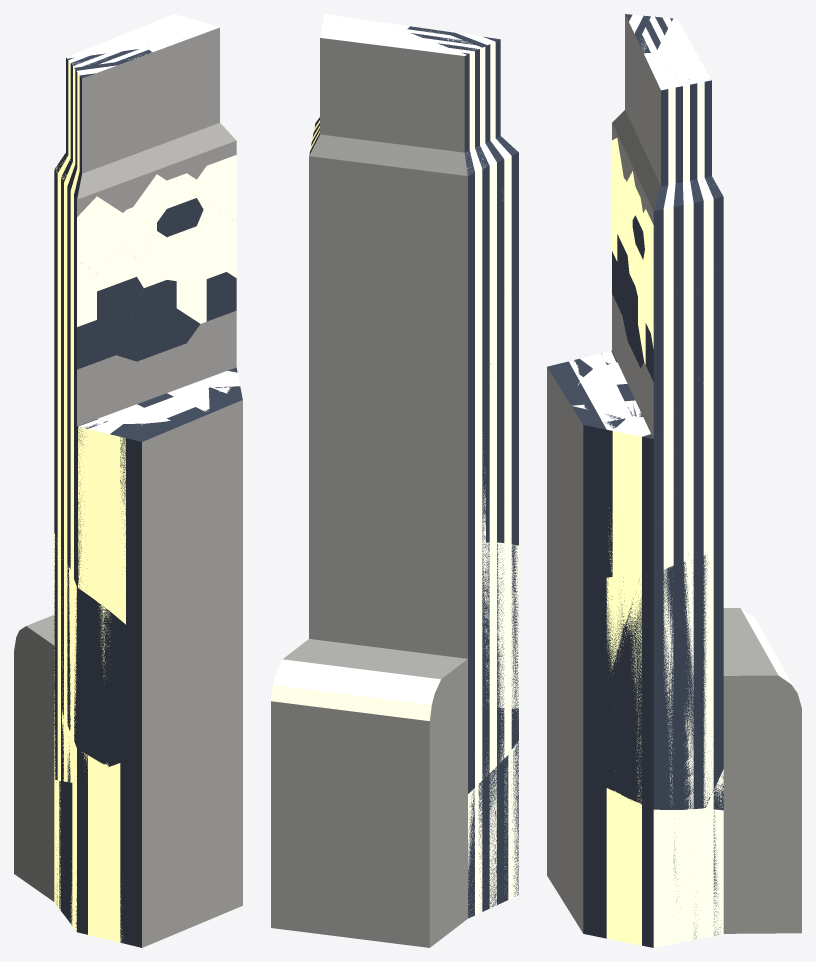
Rendered from BIGBuilding.fbx.
3 views of the same model, side by side, from view 1: azimuth 30°, elevation 25°; view 2: azimuth 150°, elevation 25°; view 3: azimuth 270°, elevation 25° (orthographic).
Visible parts, largest first — view 1: Skyscraper, Skyscraper_cell.093, Skyscraper_cell.009, Skyscraper_cell.095, Skyscraper_cell.086, Skyscraper_cell.023, Skyscraper_cell.090, Skyscraper_cell.014, Skyscraper_cell.026, Skyscraper_cell.039, Skyscraper_cell.065, Skyscraper_cell.005 (+46 smaller); view 2: Skyscraper, Skyscraper_cell.051, Skyscraper_cell.065, Skyscraper_cell.053, Skyscraper_cell.004, Skyscraper_cell.009, Skyscraper_cell.096, Skyscraper_cell.042, Skyscraper_cell.077, Skyscraper_cell.078, Skyscraper_cell.019, Skyscraper_cell.028 (+2 smaller); view 3: Skyscraper, Skyscraper_cell.093, Skyscraper_cell.086, Skyscraper_cell.006, Skyscraper_cell.051, Skyscraper_cell.057, Skyscraper_cell.053, Skyscraper_cell.095, Skyscraper_cell.067, Skyscraper_cell.038, Skyscraper_cell.031, Skyscraper_cell.084 (+14 smaller).
Boxes of the visible parts, x1,y1,x2,y2 form: Skyscraper: [14, 48, 242, 947]; Skyscraper_cell.093: [155, 555, 242, 760]; Skyscraper_cell.009: [18, 533, 157, 766]; Skyscraper_cell.095: [136, 422, 190, 638]; Skyscraper_cell.086: [208, 386, 242, 571]; Skyscraper_cell.023: [137, 361, 209, 588]; Skyscraper_cell.090: [109, 423, 144, 624]; Skyscraper_cell.014: [93, 430, 109, 610]; Skyscraper_cell.026: [120, 88, 156, 209]; Skyscraper_cell.039: [150, 84, 186, 180]; Skyscraper_cell.065: [14, 644, 99, 782]; Skyscraper_cell.005: [78, 419, 105, 598]; Skyscraper: [271, 26, 518, 947]; Skyscraper_cell.051: [271, 814, 379, 941]; Skyscraper_cell.065: [350, 699, 518, 848]; Skyscraper_cell.053: [271, 693, 350, 824]; Skyscraper_cell.004: [380, 784, 478, 947]; Skyscraper_cell.009: [356, 542, 518, 708]; Skyscraper_cell.096: [478, 755, 508, 910]; Skyscraper_cell.042: [274, 652, 359, 698]; Skyscraper_cell.077: [508, 741, 518, 899]; Skyscraper_cell.078: [352, 680, 437, 712]; Skyscraper_cell.019: [320, 26, 406, 46]; Skyscraper_cell.028: [272, 679, 352, 706]; Skyscraper: [547, 16, 801, 947]; Skyscraper_cell.093: [552, 554, 758, 809]; Skyscraper_cell.086: [571, 406, 625, 581]; Skyscraper_cell.006: [703, 808, 757, 937]; Skyscraper_cell.051: [757, 820, 801, 933]; Skyscraper_cell.057: [612, 431, 637, 576]; Skyscraper_cell.053: [706, 701, 801, 820]; Skyscraper_cell.095: [547, 367, 564, 570]; Skyscraper_cell.067: [683, 808, 703, 941]; Skyscraper_cell.038: [653, 809, 668, 947]; Skyscraper_cell.031: [668, 810, 683, 944]; Skyscraper_cell.084: [642, 416, 653, 574].
Size of the model in its own units: 1788 by 8029 by 2179.
